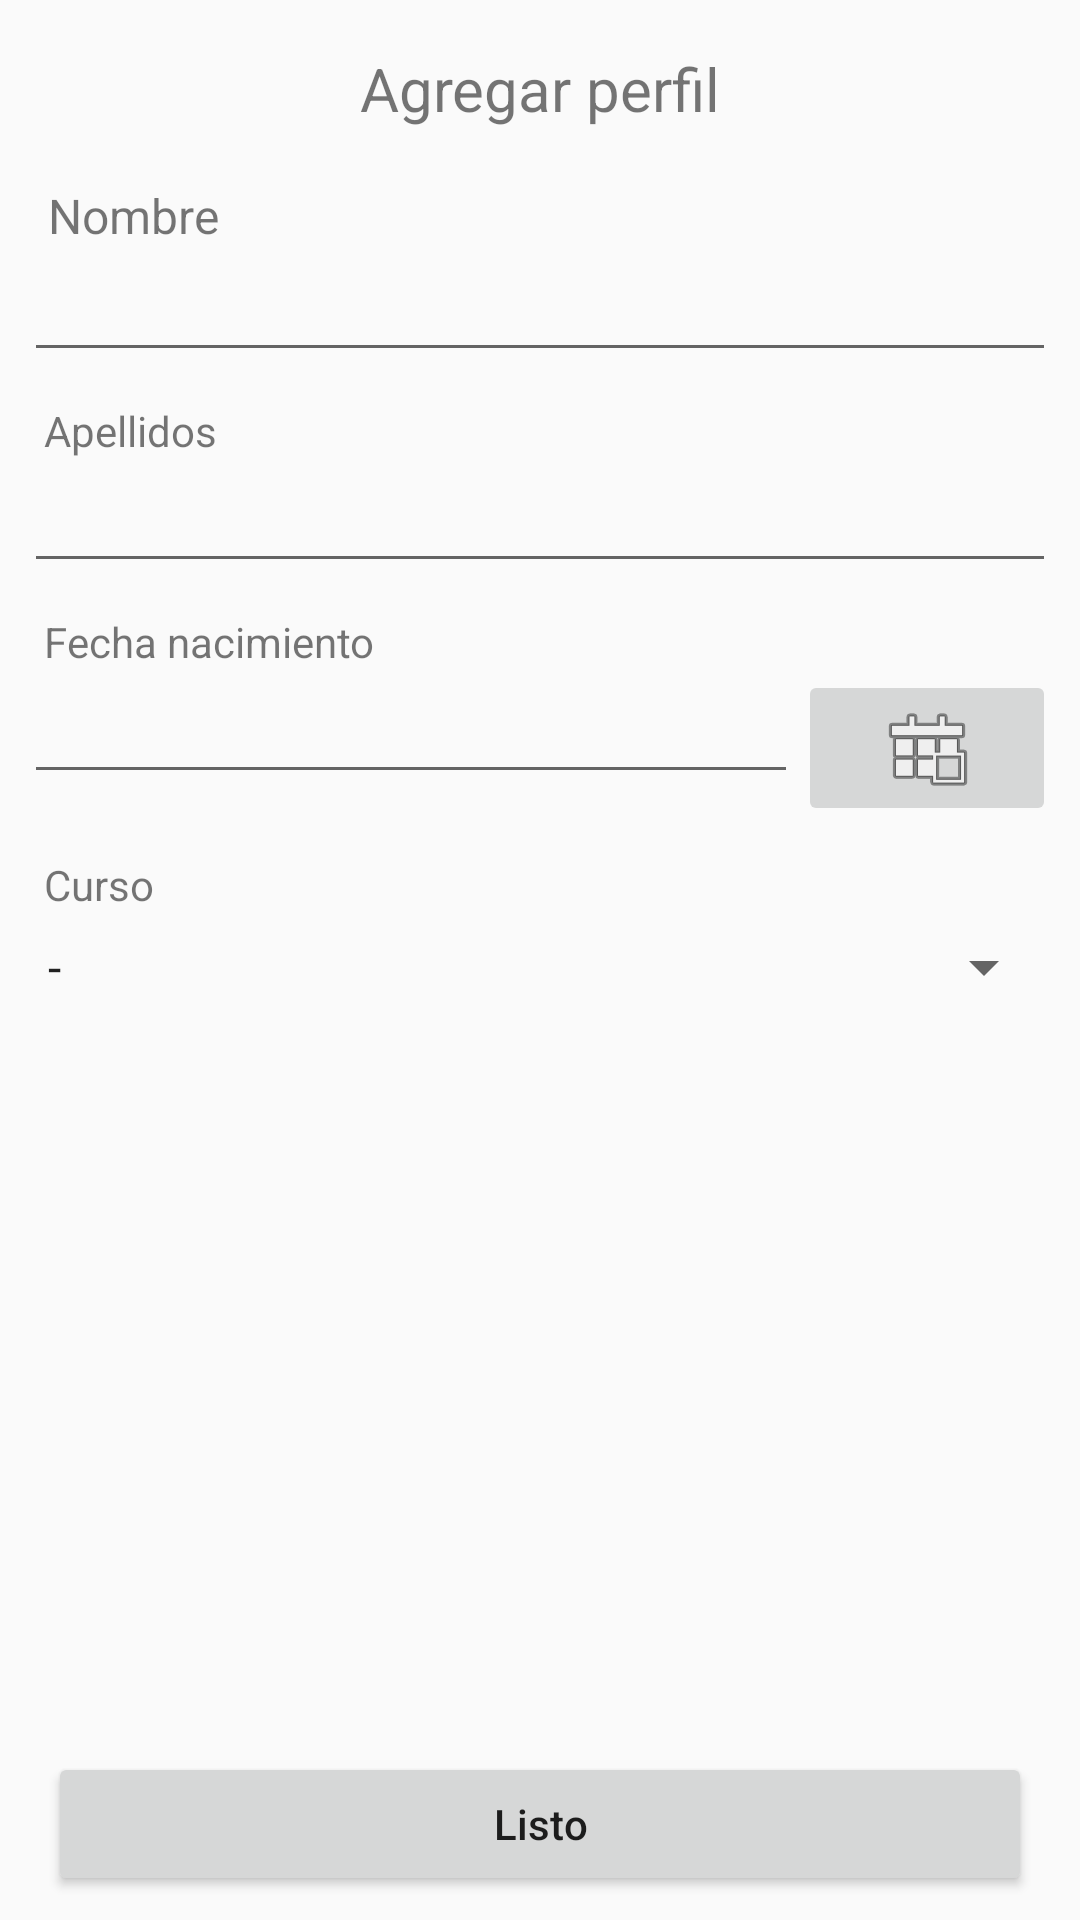

Where icons sit on this 1080px×1920px app screen, as (x1, y1, x2, y2):
today: (810, 688, 1044, 808)
